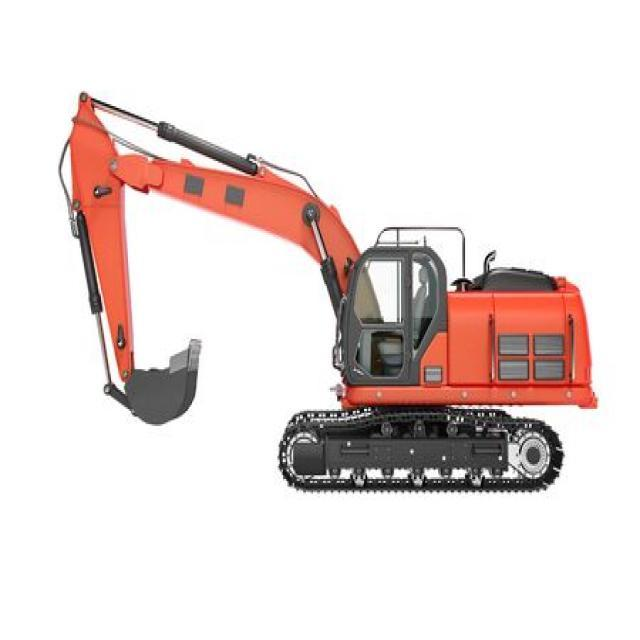C_E: (49, 89, 595, 498)
